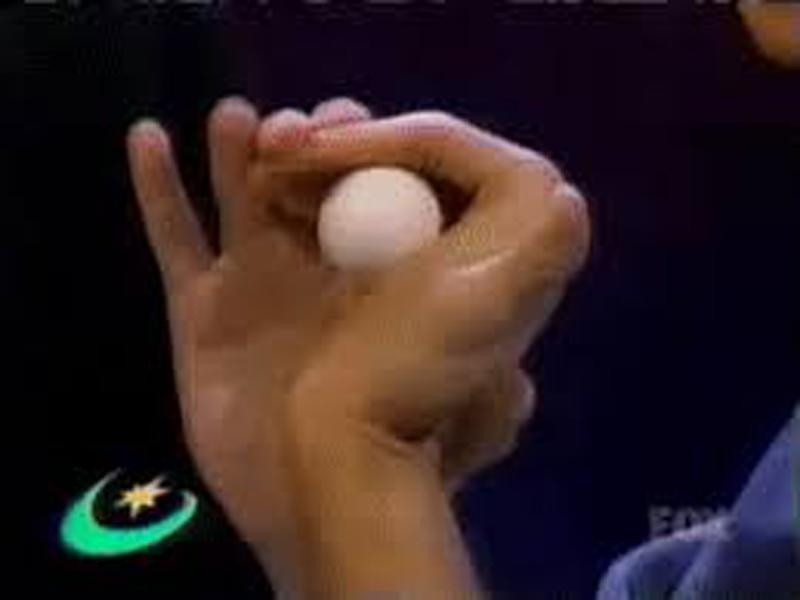Eggs: (315, 163, 445, 262)
